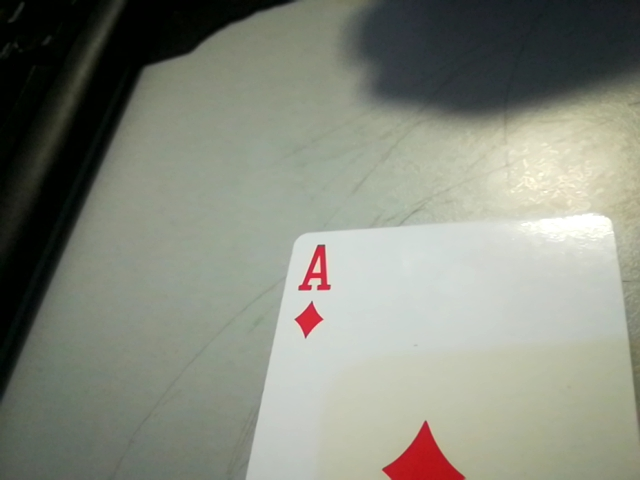fk a: (283, 239, 343, 347)
